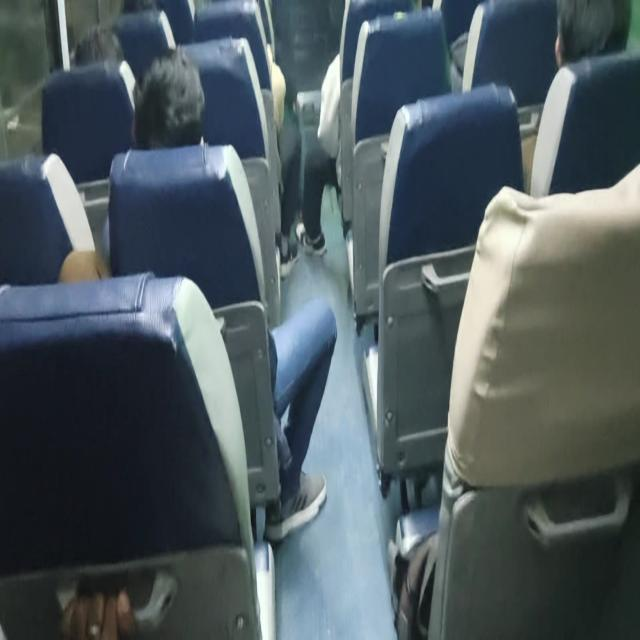person: (59, 45, 338, 543), (58, 45, 206, 282), (294, 0, 416, 256), (528, 0, 632, 194), (131, 46, 205, 149), (554, 0, 632, 69), (58, 577, 136, 638)
